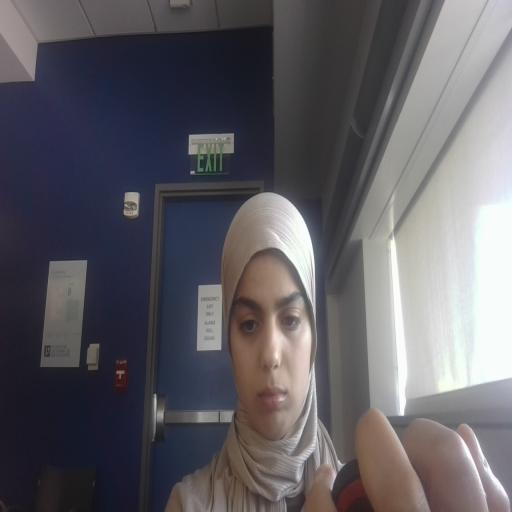phone: (301, 434, 498, 512)
